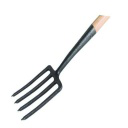fork: (14, 14, 116, 121)
